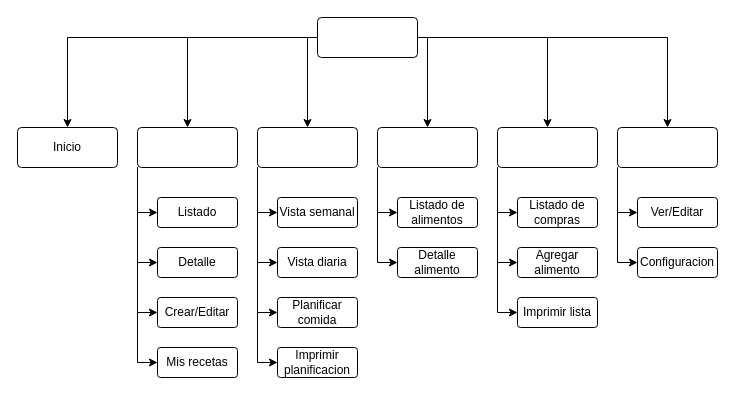
This 735x395 diagram has some shape labels left out. Here are the shapes that lost their labels. From the top down, the centre of each, then its label:
(x=367, y=37): Login
(x=187, y=147): Recetas
(x=307, y=147): Planificador
(x=427, y=147): Alimento
(x=547, y=147): Compras
(x=667, y=147): Perfil
